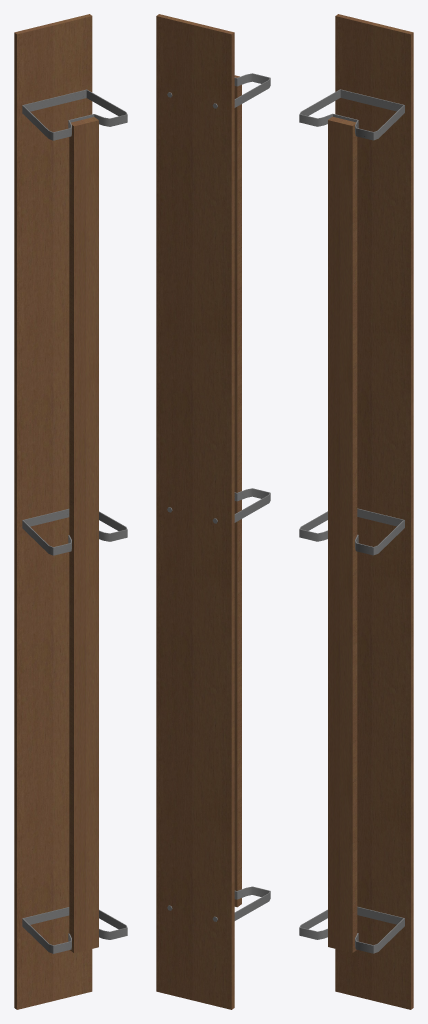
Rendered from defaultsportsbench.glb.
3 renders of one model, left to right at view 1: azimuth 30°, elevation 25°; view 2: azimuth 150°, elevation 25°; view 3: azimuth 330°, elevation 25°, orthographic.
Parts seen in each view (by area): view 1: DefaultSportsBench; view 2: DefaultSportsBench; view 3: DefaultSportsBench.
Part boxes in pixels (x1,y1,x2,y2): DefaultSportsBench: (14,14,127,1009); DefaultSportsBench: (156,14,270,1009); DefaultSportsBench: (299,14,413,1009).
Size of the model in its own units: 0.024 by 0.2884 by 0.0212.
Materials: 2 (2 with a texture image).
